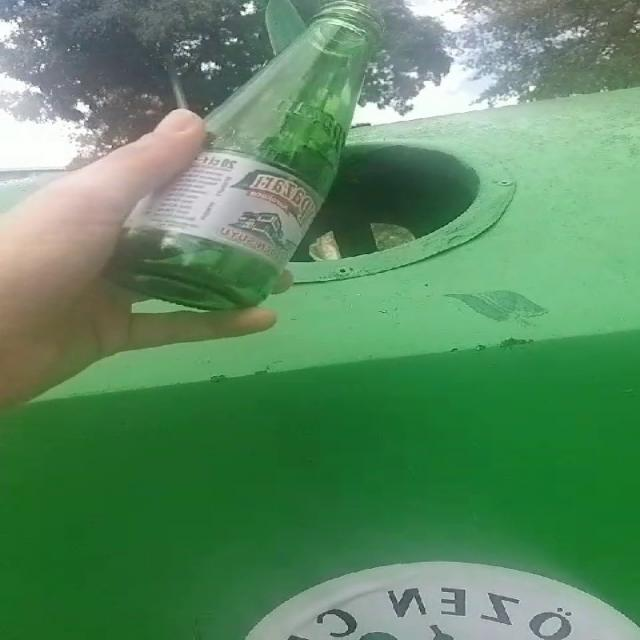glass: (108, 1, 381, 310)
